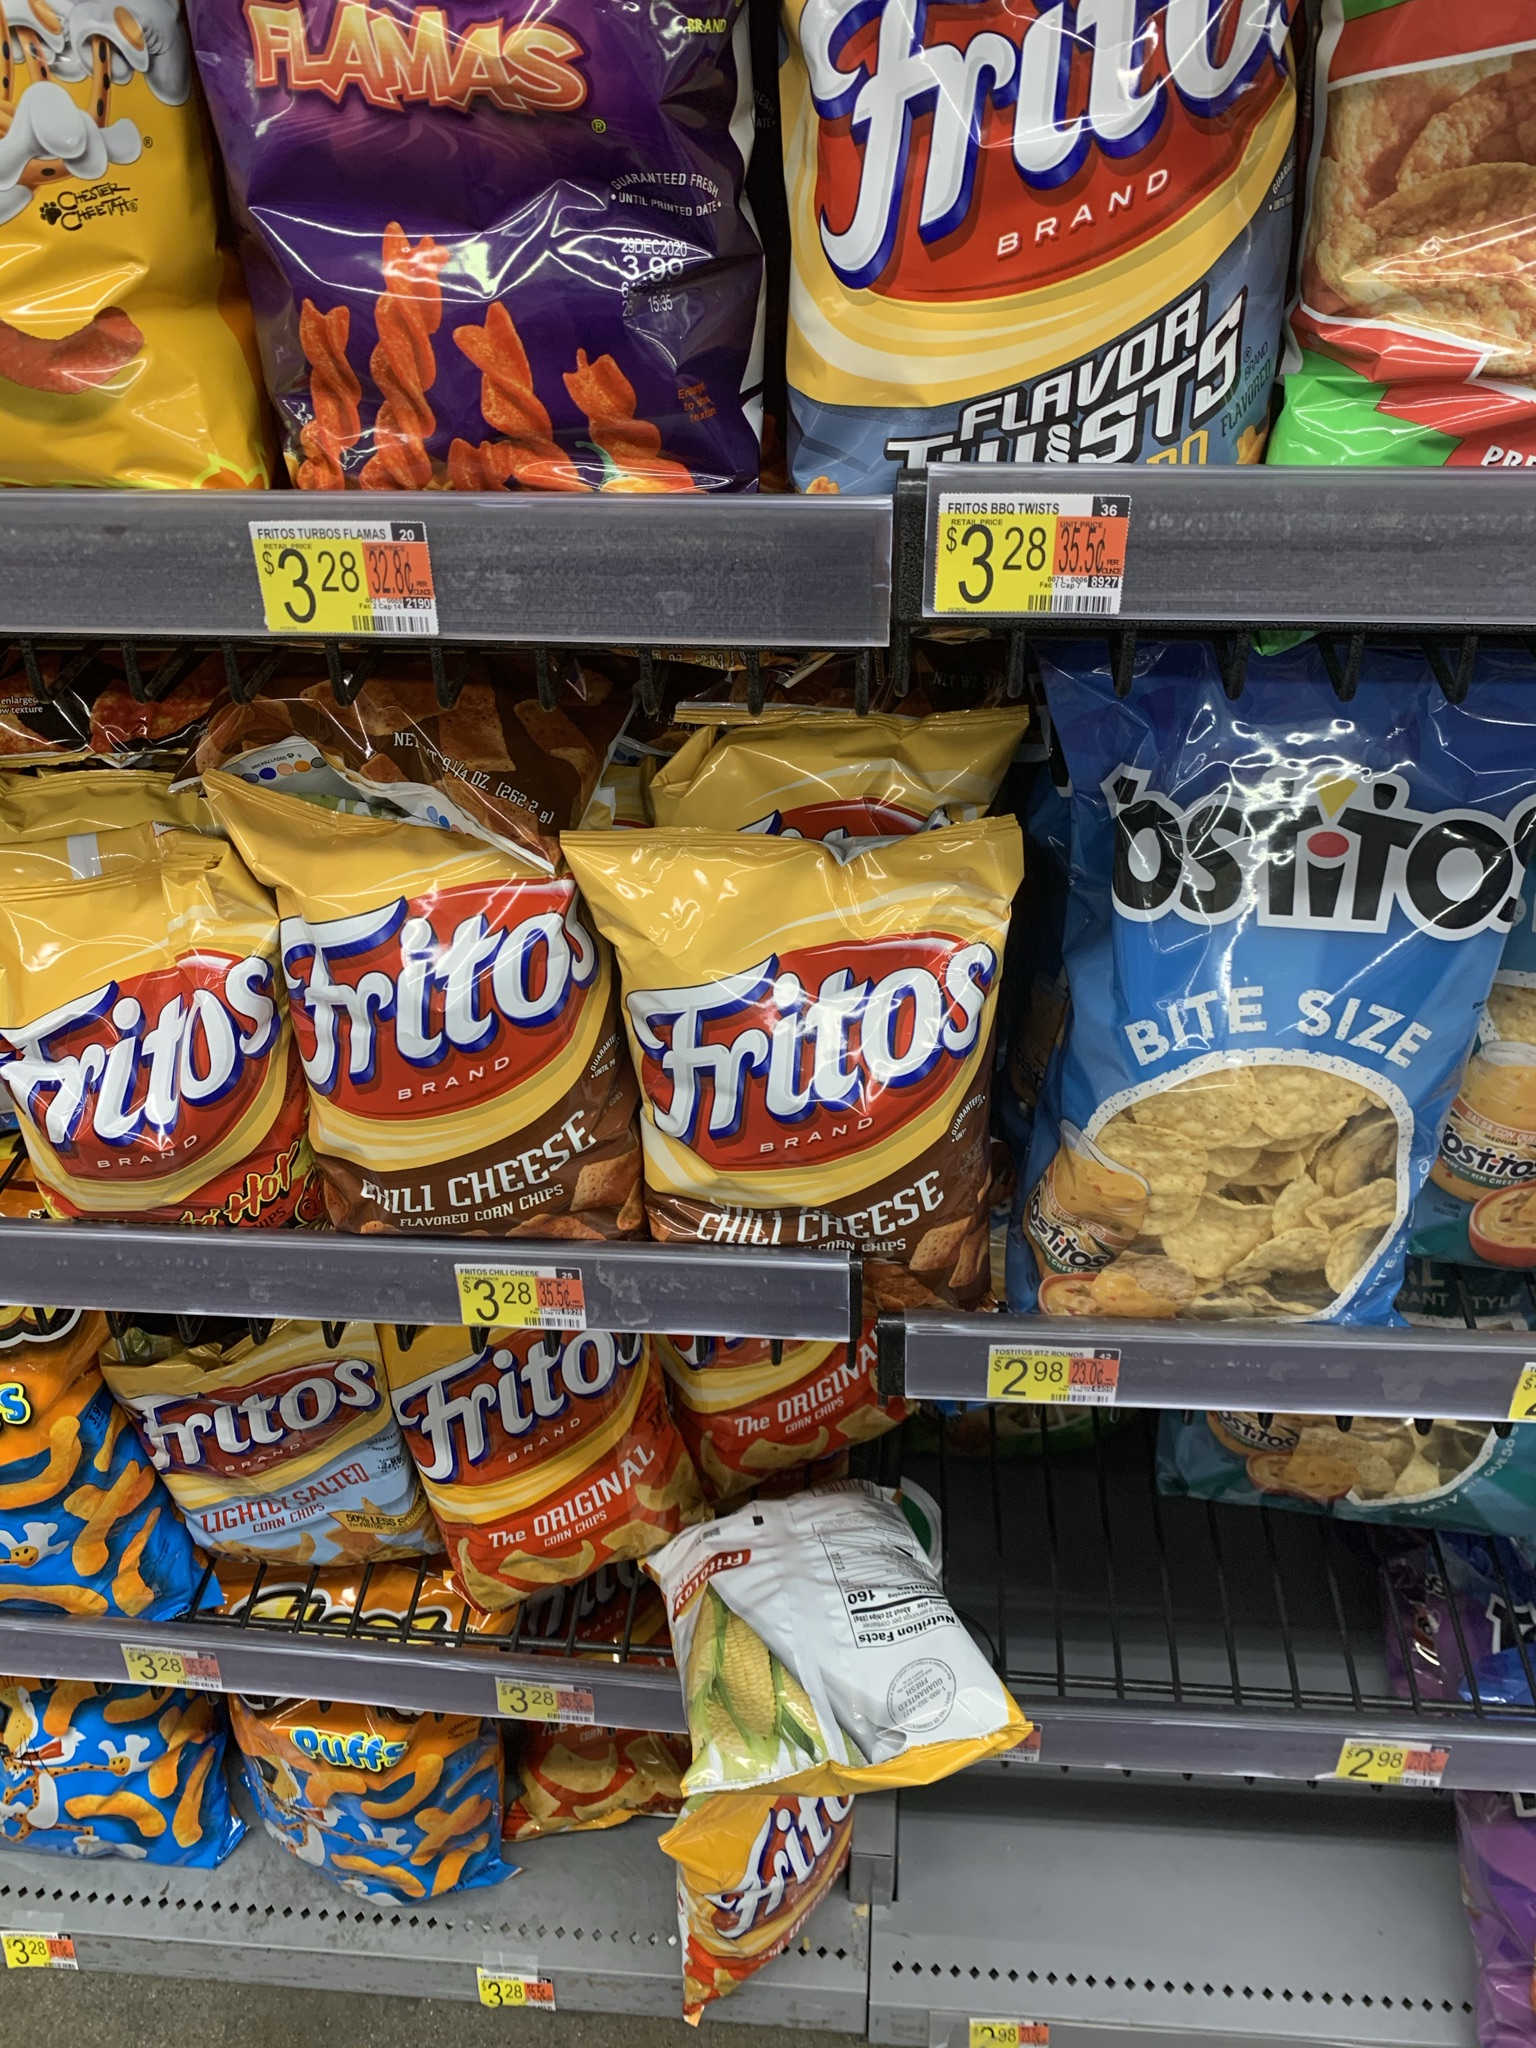Chips: (1044, 655, 1536, 1321), (616, 813, 989, 1280), (278, 863, 600, 1209), (2, 880, 289, 1232)
